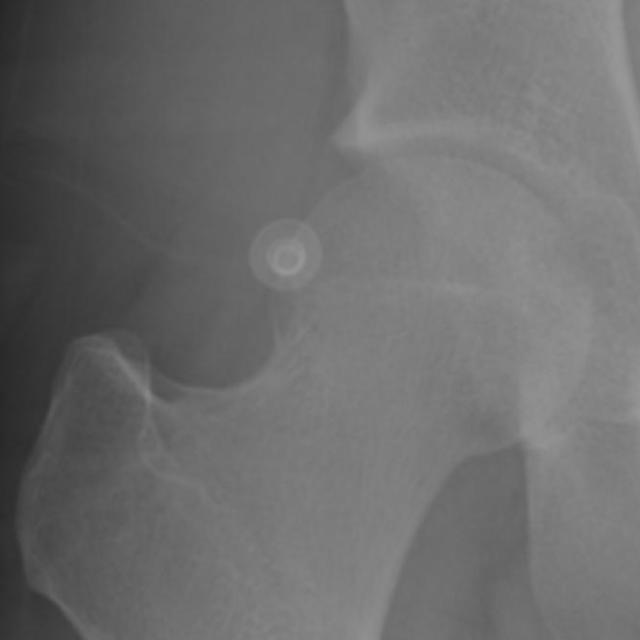Fitted_femural_head: (311, 158, 432, 311)
